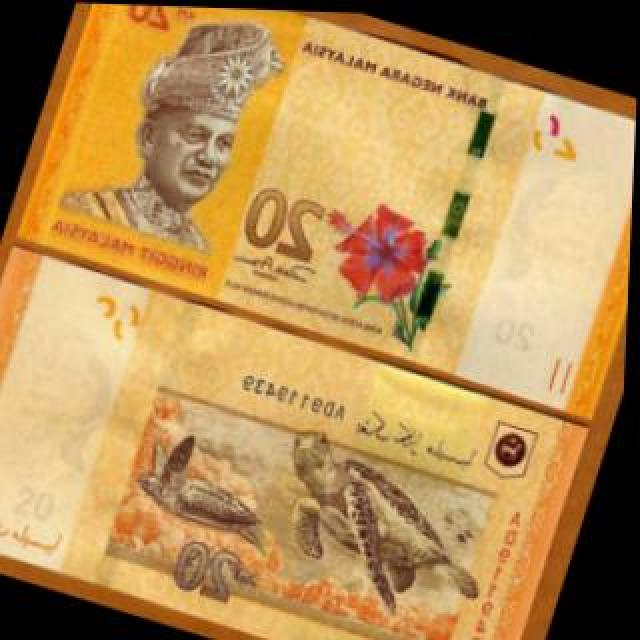20 Ringgit: (6, 0, 640, 416), (0, 242, 602, 640)
